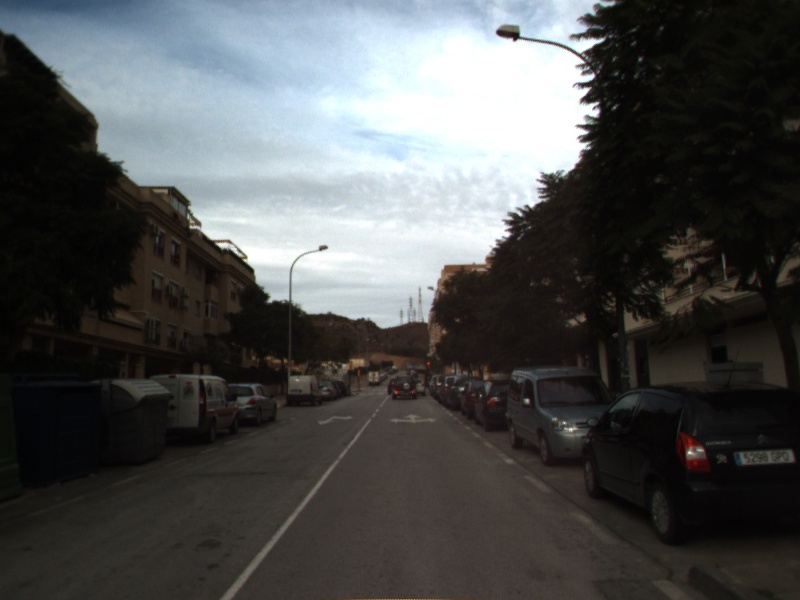STRAIGHT_LEFT_RIGHT: (388, 412, 439, 426)
